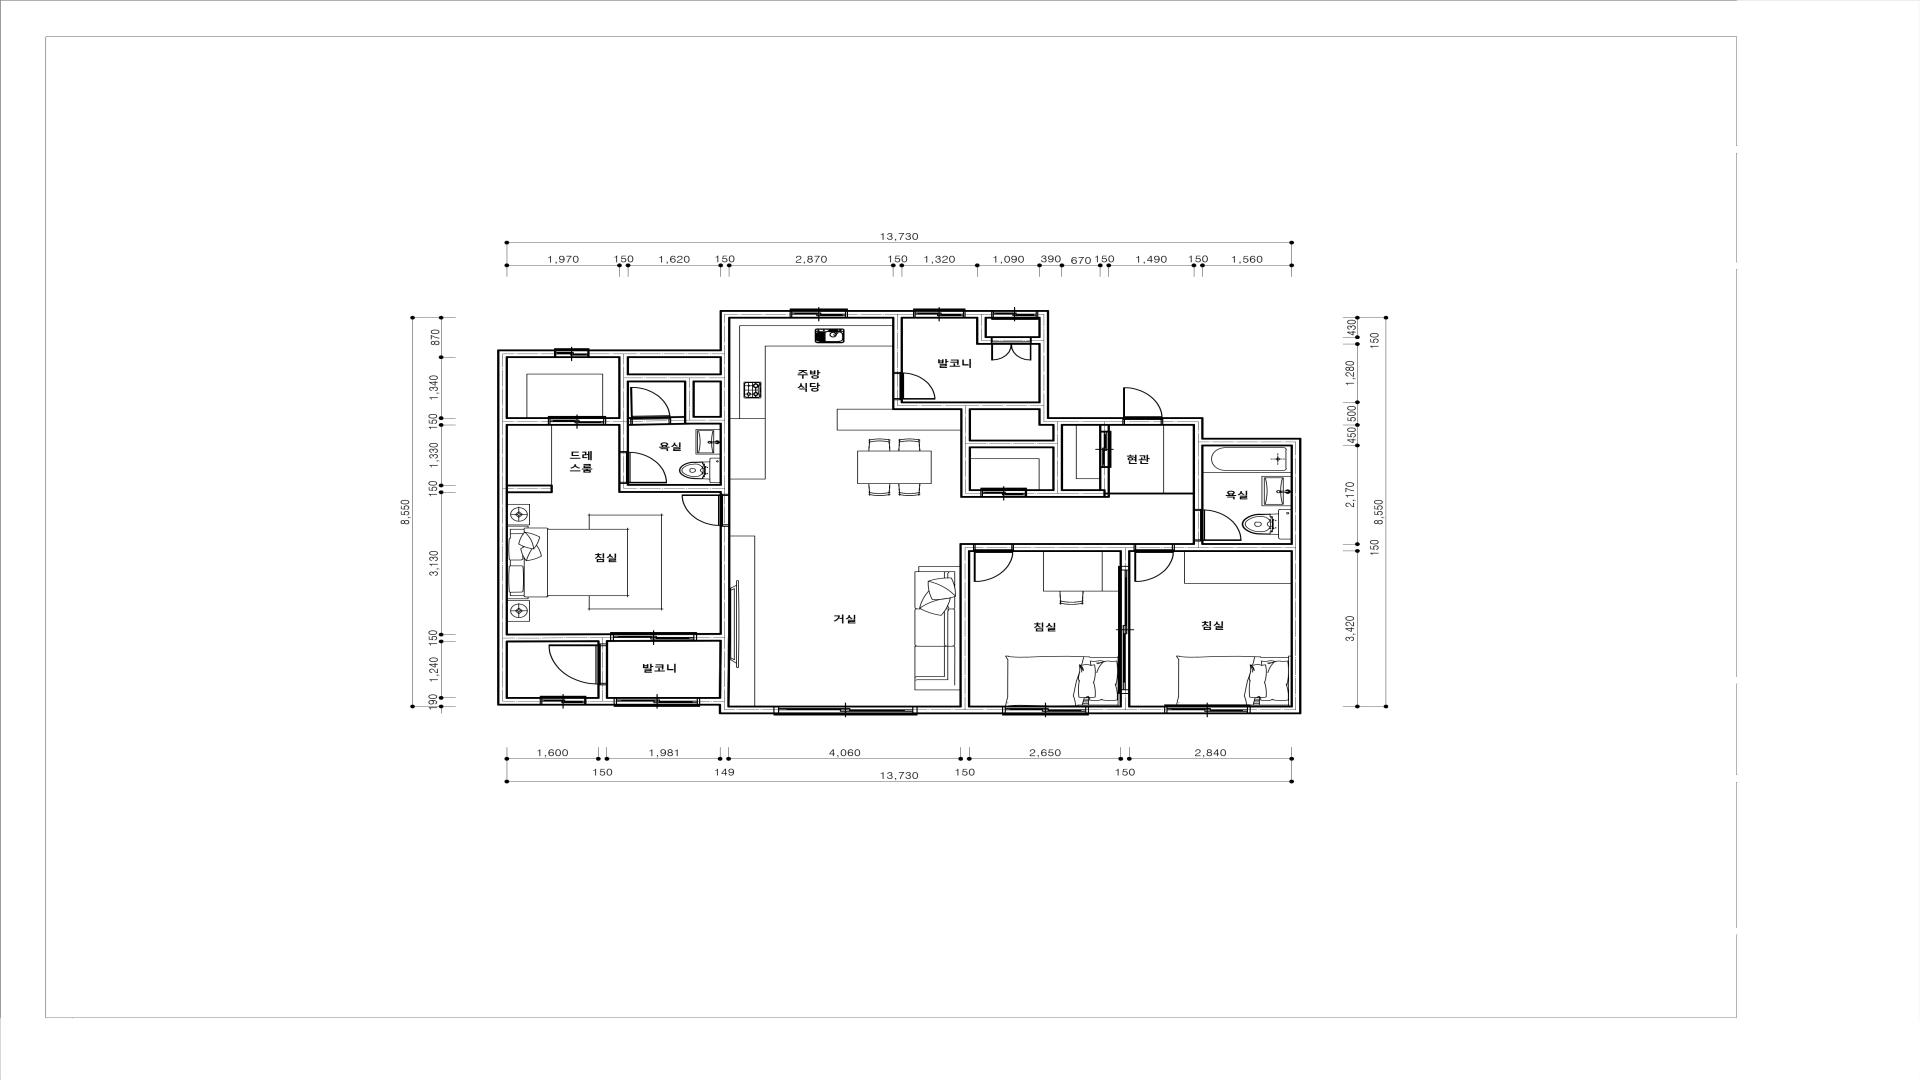door: (549, 645, 608, 684), (630, 386, 671, 426), (1134, 543, 1175, 583), (1122, 386, 1163, 426), (1192, 509, 1242, 541), (973, 543, 1013, 583), (682, 495, 731, 526), (618, 451, 667, 483), (1118, 566, 1130, 694), (893, 372, 936, 400), (990, 336, 1031, 361), (1098, 431, 1112, 468), (980, 488, 1027, 497)
wall: (497, 359, 508, 705), (1291, 438, 1302, 705), (719, 526, 731, 698), (959, 543, 971, 705), (720, 357, 731, 495), (891, 401, 1038, 410), (1038, 310, 1050, 417), (589, 349, 719, 359), (1013, 543, 1134, 553), (1175, 543, 1291, 553), (618, 357, 629, 451), (508, 633, 611, 642), (618, 484, 720, 493), (1192, 438, 1291, 447), (629, 373, 720, 382), (960, 410, 971, 489), (1038, 417, 1124, 426), (918, 705, 1002, 715), (1052, 426, 1063, 498), (971, 439, 1052, 448), (1192, 446, 1204, 509), (1089, 705, 1164, 715), (720, 310, 790, 319), (891, 319, 903, 372), (848, 310, 913, 319), (497, 349, 554, 359), (719, 705, 774, 715), (1251, 705, 1302, 715), (719, 319, 731, 357), (684, 382, 695, 425), (508, 484, 553, 493), (1063, 489, 1106, 498), (508, 417, 547, 426), (1163, 417, 1192, 426), (1098, 468, 1110, 489), (1192, 417, 1204, 438), (508, 698, 539, 705), (965, 310, 992, 319), (695, 415, 720, 425), (1027, 489, 1052, 498), (700, 698, 729, 705), (587, 698, 613, 705), (698, 633, 719, 642), (960, 489, 980, 497), (1120, 553, 1130, 566), (1120, 694, 1130, 705), (597, 684, 608, 696), (671, 415, 684, 425), (607, 417, 618, 426), (1098, 426, 1110, 431), (1106, 489, 1110, 498), (1192, 541, 1204, 543), (597, 642, 608, 645), (971, 543, 973, 553), (891, 400, 903, 401), (618, 483, 629, 484)
window: (774, 705, 918, 716), (611, 632, 698, 642), (1002, 705, 1089, 716), (1164, 704, 1250, 715), (613, 698, 700, 707), (547, 415, 607, 426), (790, 309, 848, 319), (913, 309, 965, 319), (992, 310, 1038, 320), (539, 696, 587, 705), (554, 348, 589, 359)
